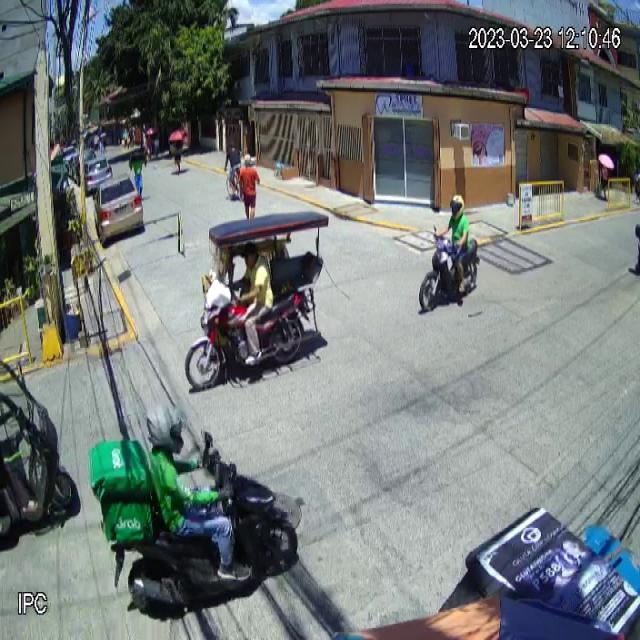Motorcycle: (109, 426, 300, 622), (418, 223, 482, 320)
Tricycle: (181, 210, 332, 389)
